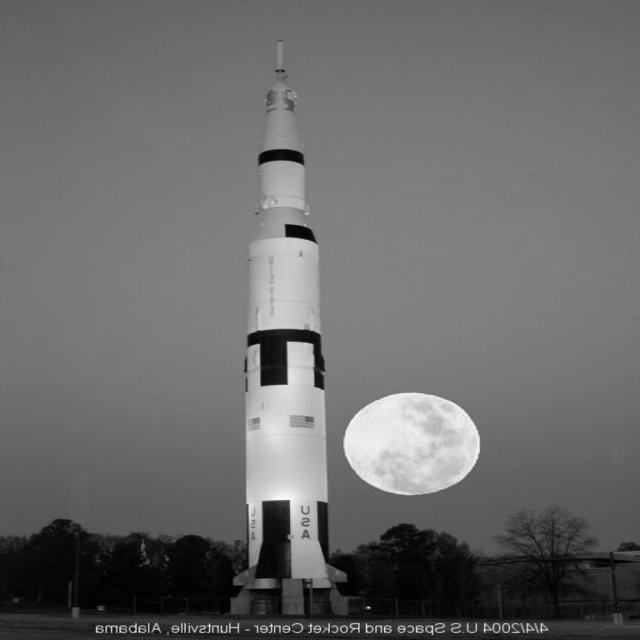missile: (218, 23, 348, 616)
